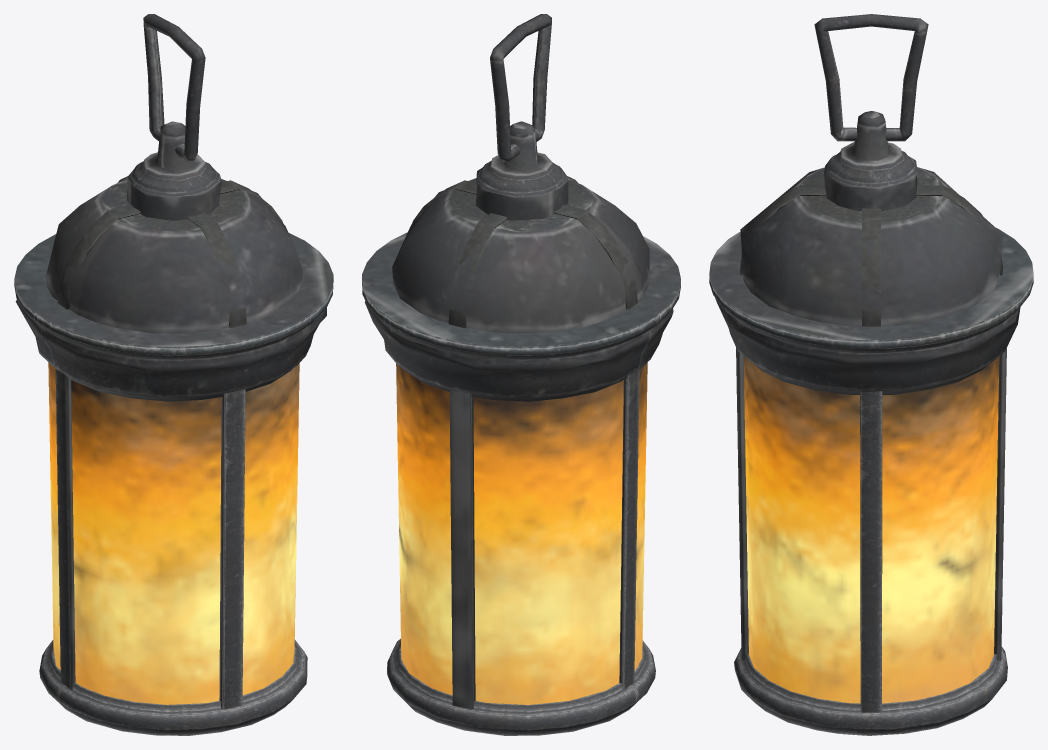
File: SM_Lantern-Hanging-Large.fbx
3 views of the same model, side by side, from view 1: azimuth 30°, elevation 25°; view 2: azimuth 150°, elevation 25°; view 3: azimuth 270°, elevation 25° (orthographic).
Parts seen in each view (by area): view 1: SM_Lantern-Hanging-Large_LOD0; view 2: SM_Lantern-Hanging-Large_LOD0; view 3: SM_Lantern-Hanging-Large_LOD0.
Boxes of the visible parts, x1,y1,x2,y2 form: SM_Lantern-Hanging-Large_LOD0: (14,14,333,735); SM_Lantern-Hanging-Large_LOD0: (362,14,680,735); SM_Lantern-Hanging-Large_LOD0: (709,14,1033,735).
Bounding box in the file's own units: 27.01 × 27.04 × 61.51.
1 material, 1 textured.
